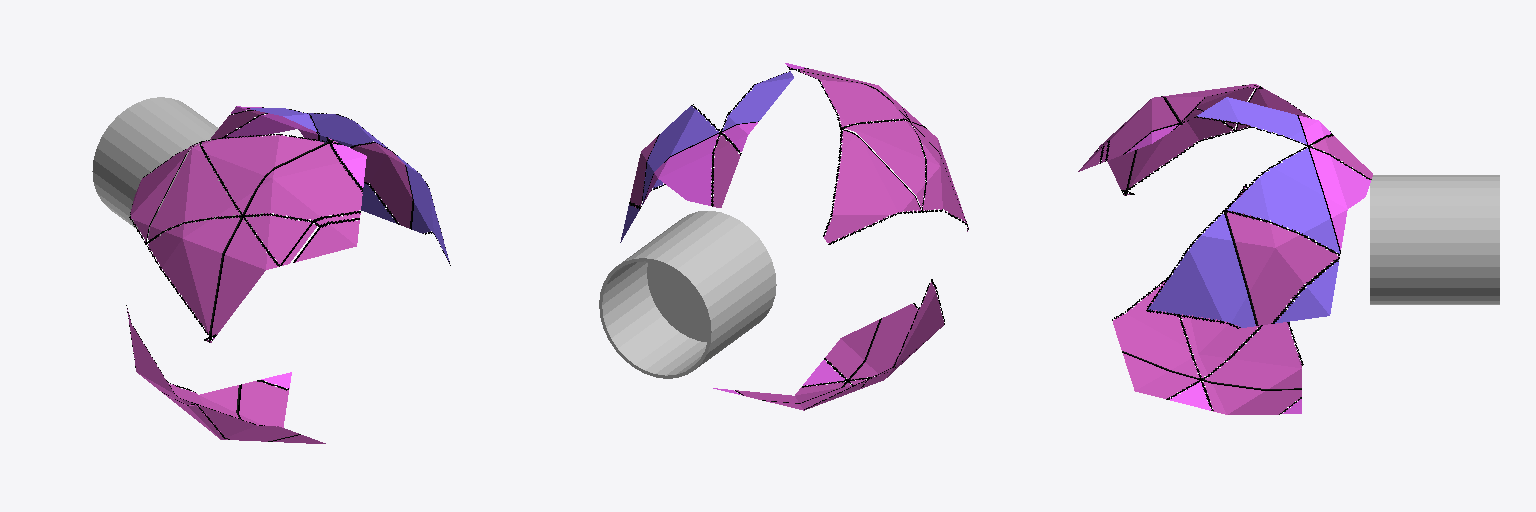
3 renders of one model, left to right at view 1: azimuth 30°, elevation 25°; view 2: azimuth 150°, elevation 25°; view 3: azimuth 270°, elevation 25°, orthographic.
Visible parts, largest first — view 1: tutorialEnemy, 円柱; view 2: tutorialEnemy, 円柱; view 3: tutorialEnemy, 円柱.
Boxes of the visible parts, <box> form: tutorialEnemy: <box>126,106,450,443</box>; 円柱: <box>92,97,262,239</box>; tutorialEnemy: <box>620,63,968,410</box>; 円柱: <box>599,211,776,378</box>; tutorialEnemy: <box>1078,84,1372,414</box>; 円柱: <box>1370,175,1499,304</box>.
Bounding box in the file's own units: 2 × 2 × 2.51.
Materials: 2 (1 with a texture image).